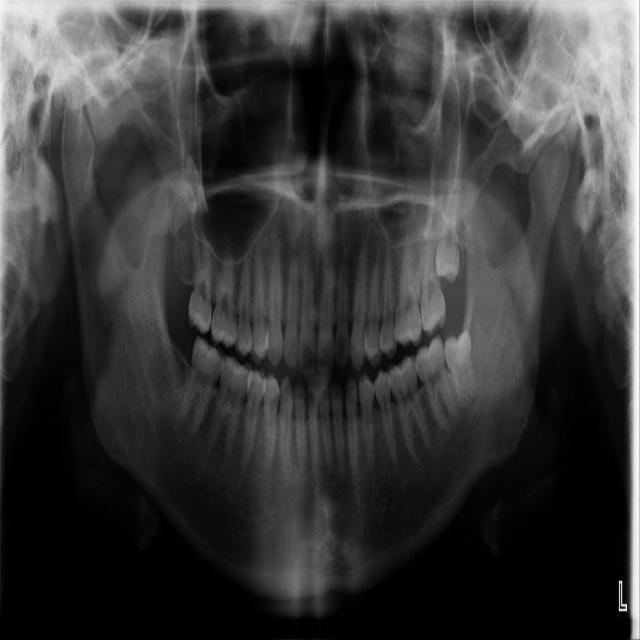73: (618, 588, 622, 598)
BioHorizons Implant: (416, 206, 448, 337)
BioLife Implant: (435, 158, 461, 284)
Biomet 3i Implant: (442, 326, 478, 408)
Blue Sky Bio Implant: (410, 335, 460, 432)
Caries: (187, 218, 216, 334)
Implant: (177, 335, 228, 435)
